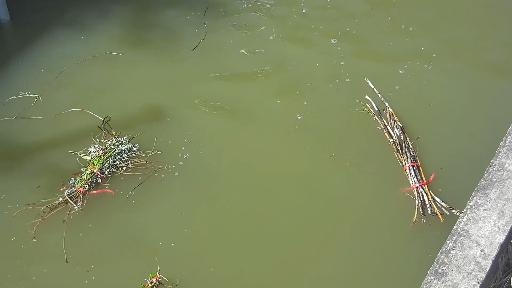twig: (0, 32, 182, 259), (347, 69, 483, 230), (96, 251, 208, 288), (185, 0, 219, 53)
